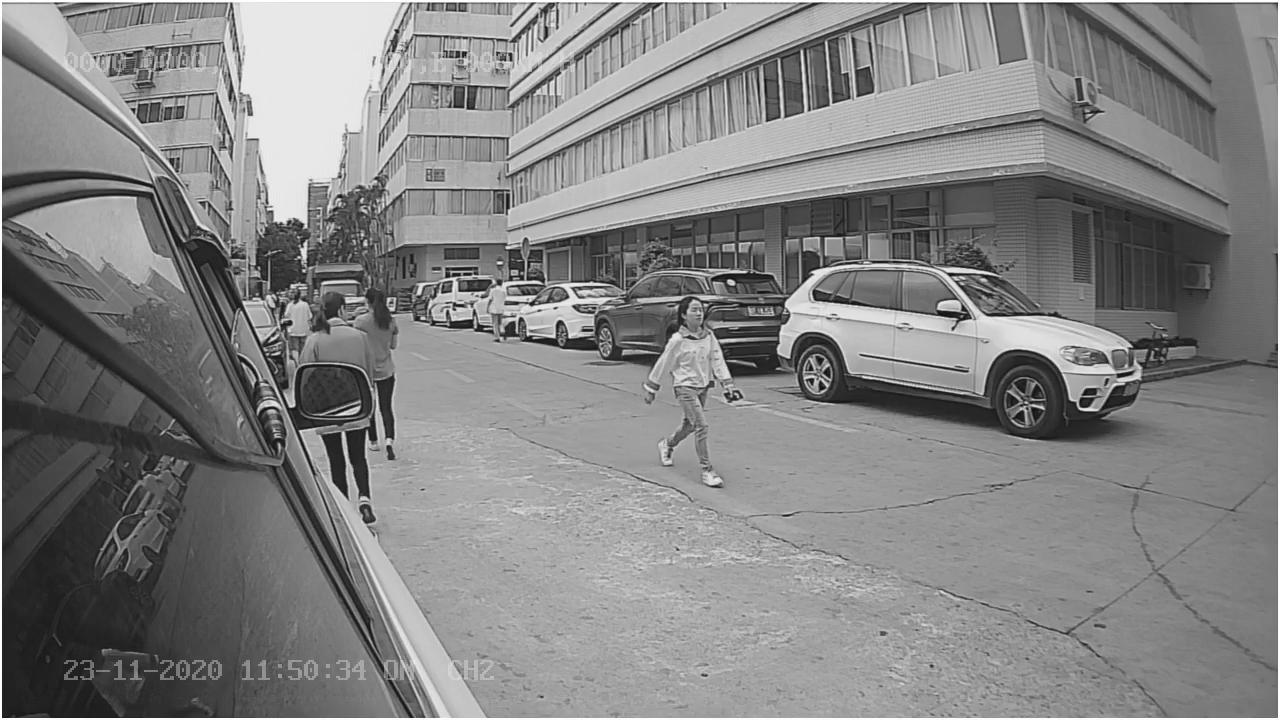person: (642, 293, 736, 489)
